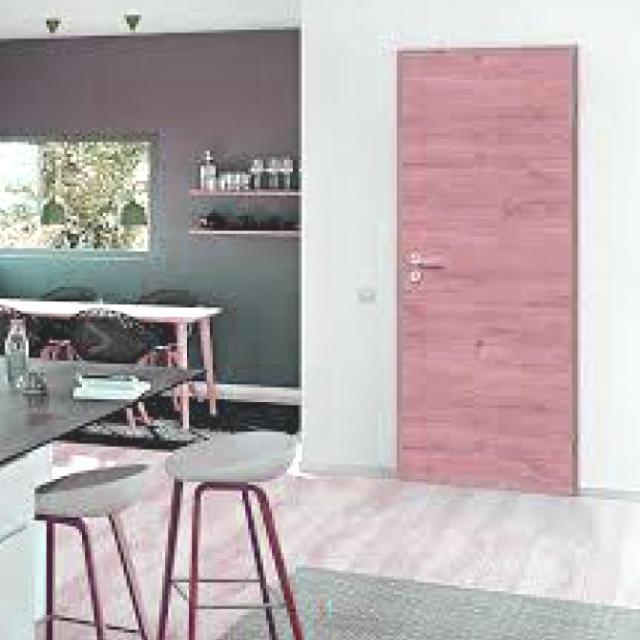door: (394, 43, 578, 495)
